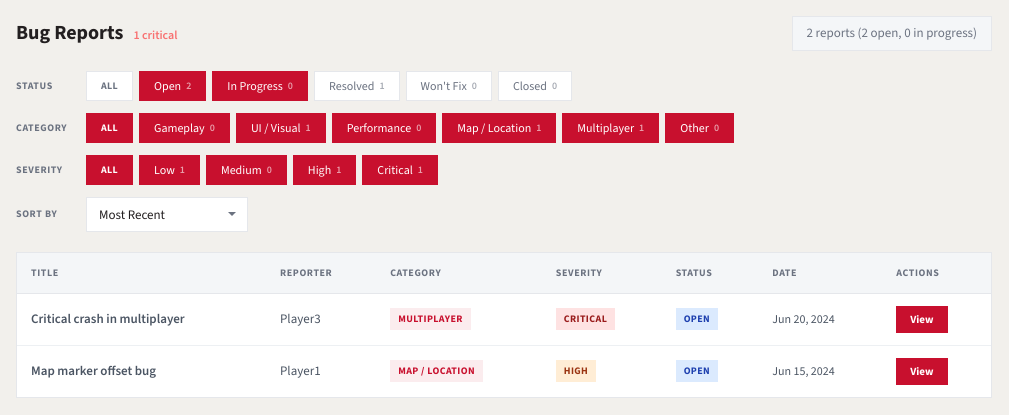
Test case: BugReportManagement › filtering › should deselect a severity pill to hide matching reports
The width and height of the screenshot is (1009, 415).
Expected: the text "Critical crash in multiplayer" is shown, [17,293,266,345]
Expected: the text "Map marker offset bug" is shown, [17,345,266,397]
# Deselect "Critical" severity pill
Click the button "Critical 1": (400, 170) [362,155,438,185]
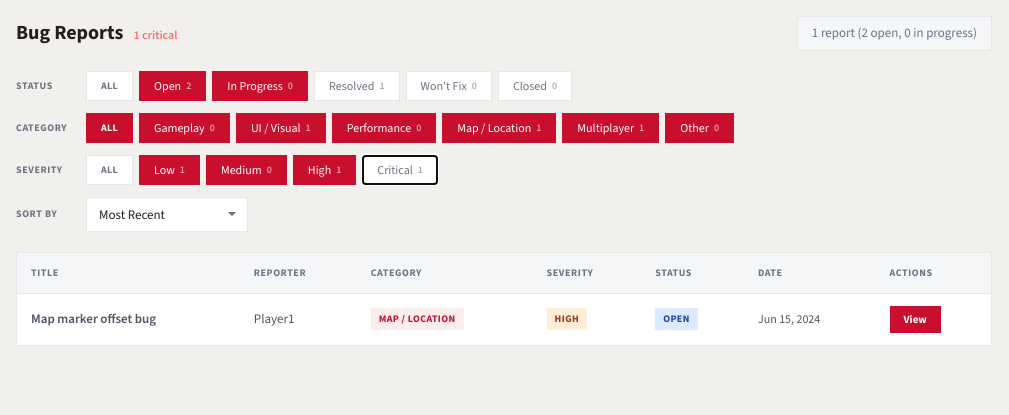
Expected: the text "Map marker offset bug" is shown, [17,293,240,345]
Result: the text "Critical crash in multiplayer" is gone
